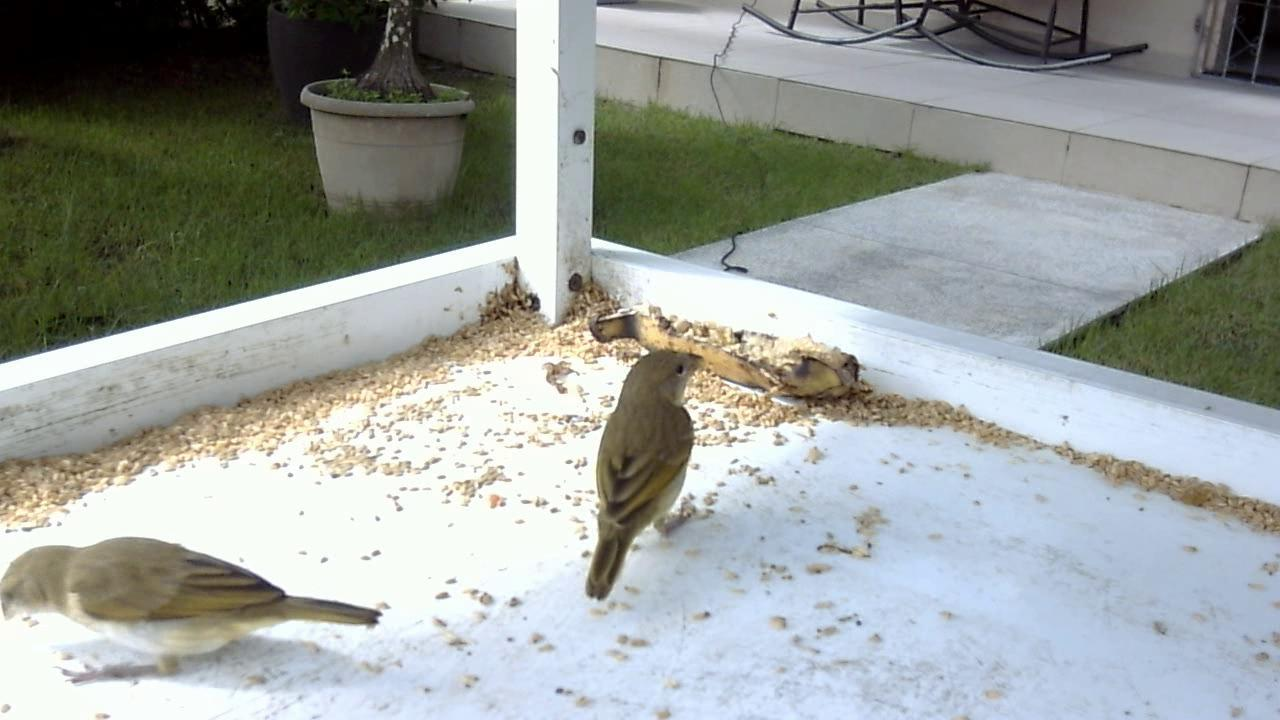canario_do_amazonas: (1, 524, 384, 693), (572, 346, 717, 611)
